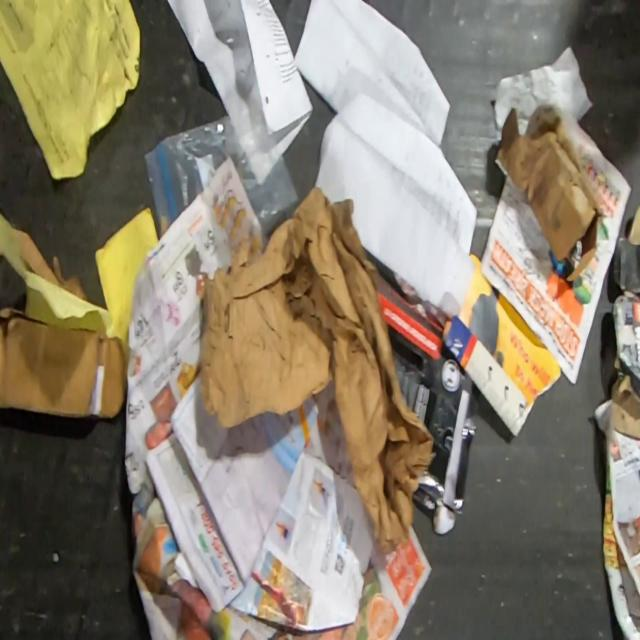cardboard: (198, 186, 436, 556), (385, 321, 482, 537), (492, 106, 599, 283), (0, 305, 127, 420), (601, 423, 640, 640), (372, 273, 445, 359), (610, 202, 639, 380), (592, 369, 640, 439)
soft_plastic: (142, 99, 301, 241)
